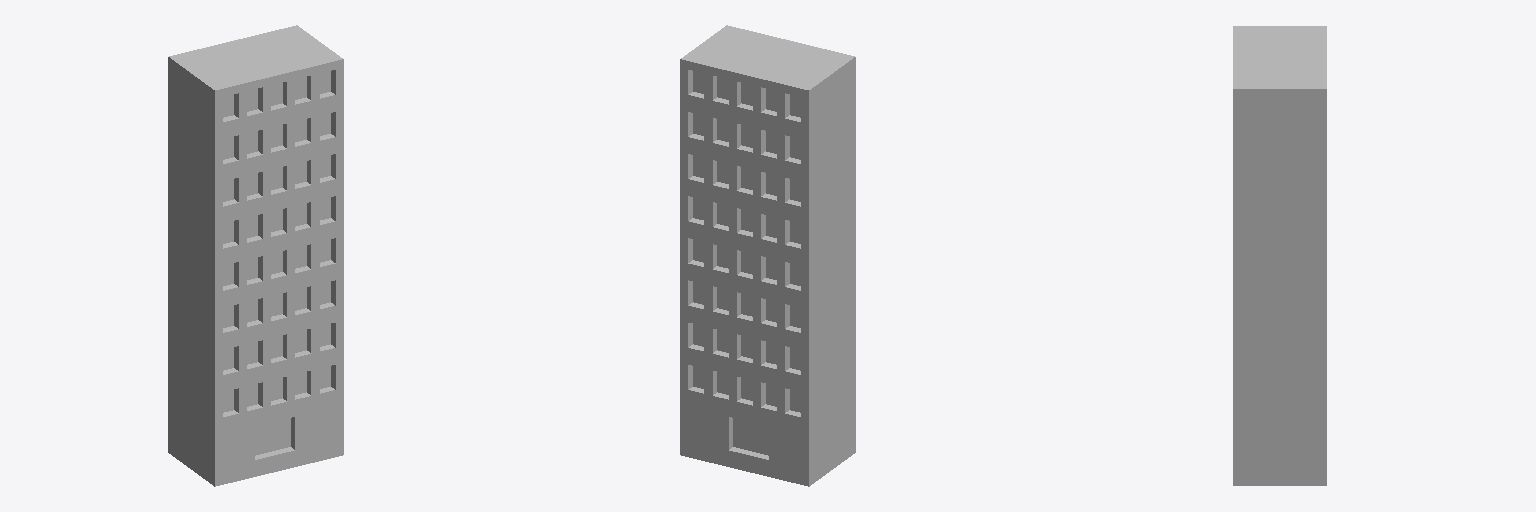
The model's file is building14.obj.
The picture shows the model from 3 angles: view 1: azimuth 30°, elevation 25°; view 2: azimuth 150°, elevation 25°; view 3: azimuth 270°, elevation 25°; orthographic projection.
Visible parts, largest first — view 1: building14; view 2: building14; view 3: building14.
Boxes of the visible parts, x1,y1,x2,y2 form: building14: [168, 25, 343, 486]; building14: [680, 25, 855, 486]; building14: [1233, 26, 1326, 485].
Bounding box in the file's own units: 16 × 47 × 10.